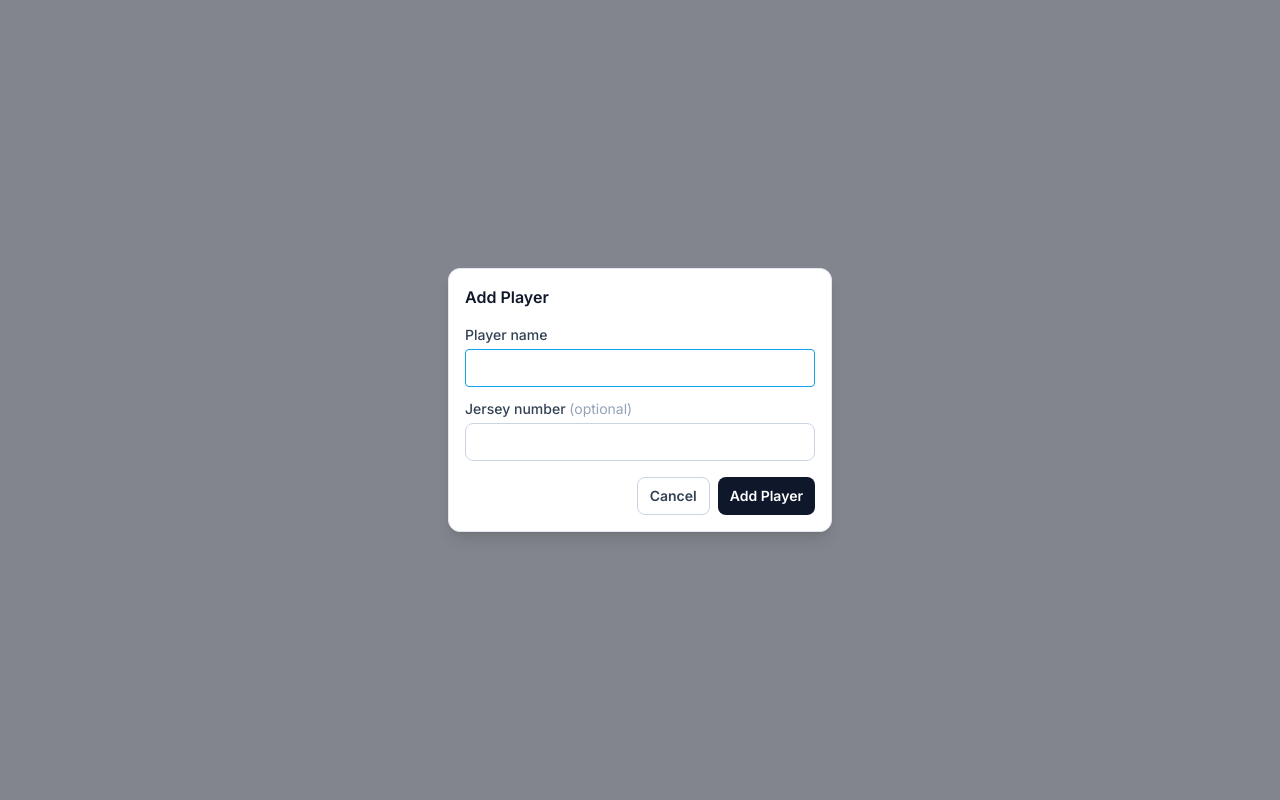
AddRosterPlayerDialog › does not submit an empty name
Click the button "Add Player" at (766, 496), box [718,477,815,515]
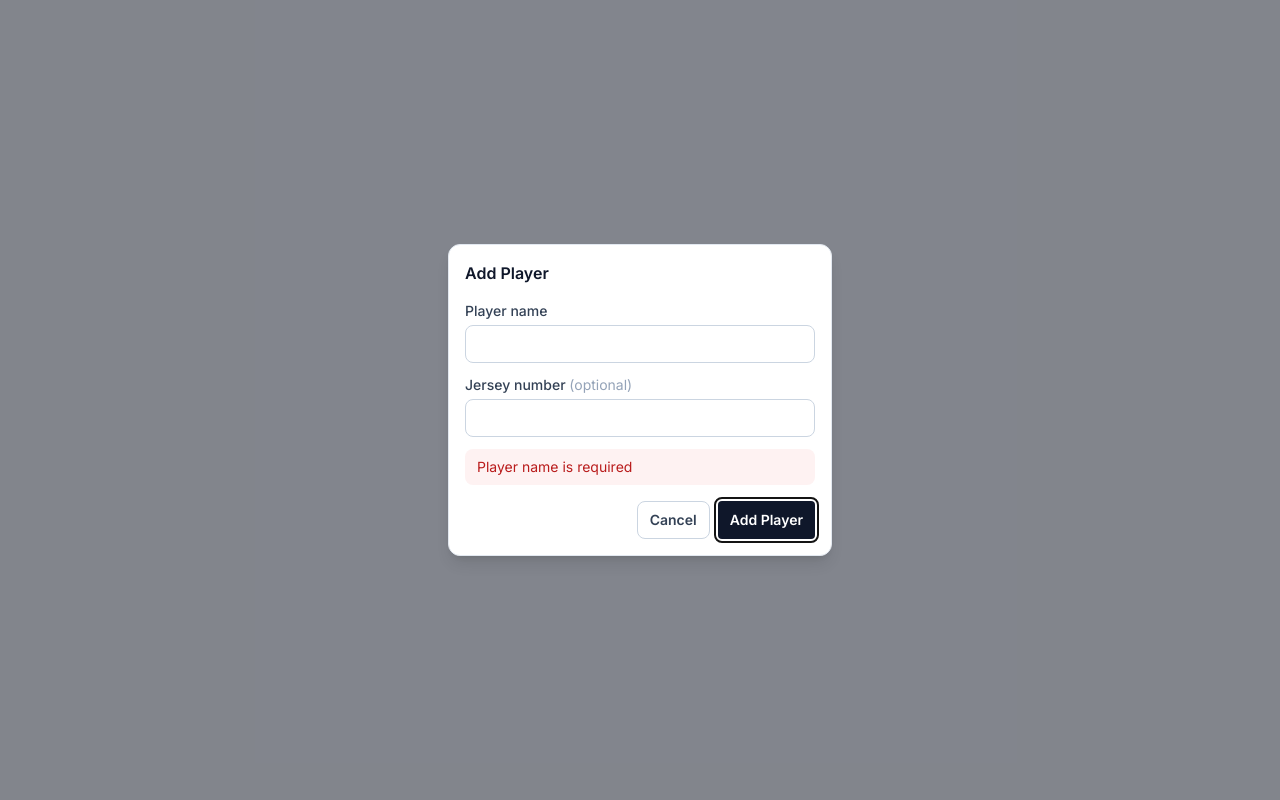
expect the text "Player name is required" is shown: met, box [465,449,815,485]
